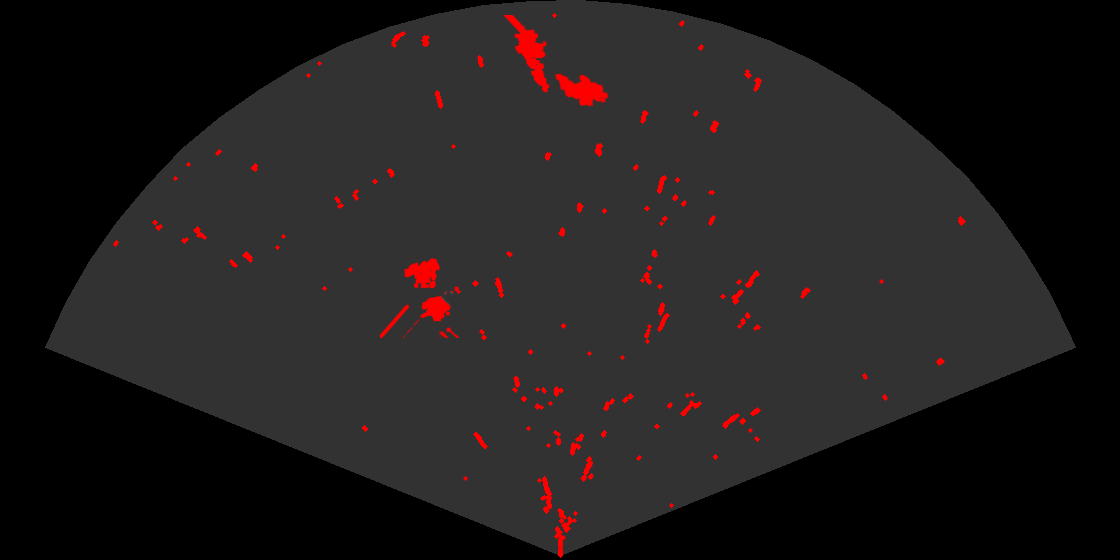AUV: (553, 71, 610, 108)
cage: (380, 257, 461, 338)
frogman: (502, 15, 551, 94)
